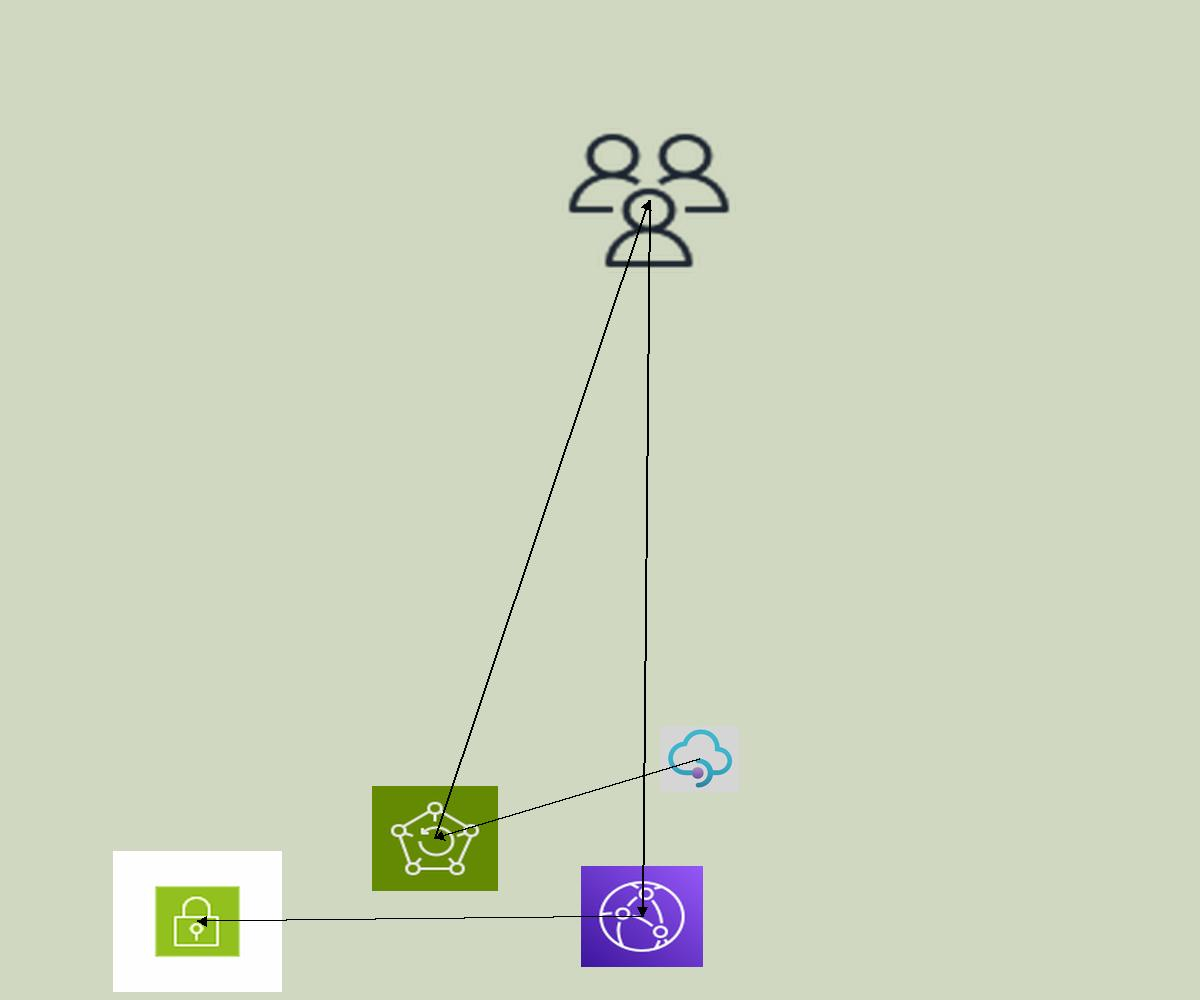AWS-Backup: (372, 786, 498, 891)
AWS-CloudFront: (581, 866, 703, 967)
AWS-Public-subnet: (113, 851, 282, 992)
AWS-Res_Users: (562, 128, 736, 273)
Azure_api_gateway: (660, 726, 739, 792)
